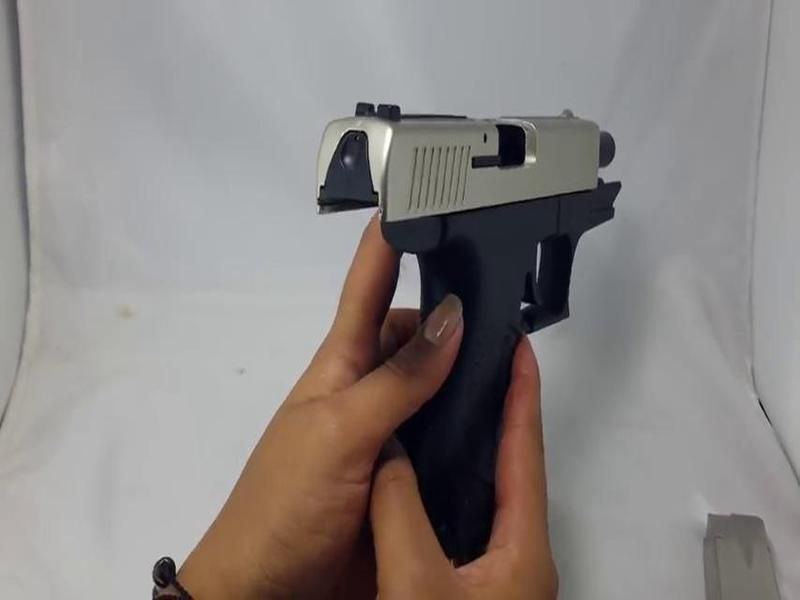Pistola: (267, 90, 681, 567)
